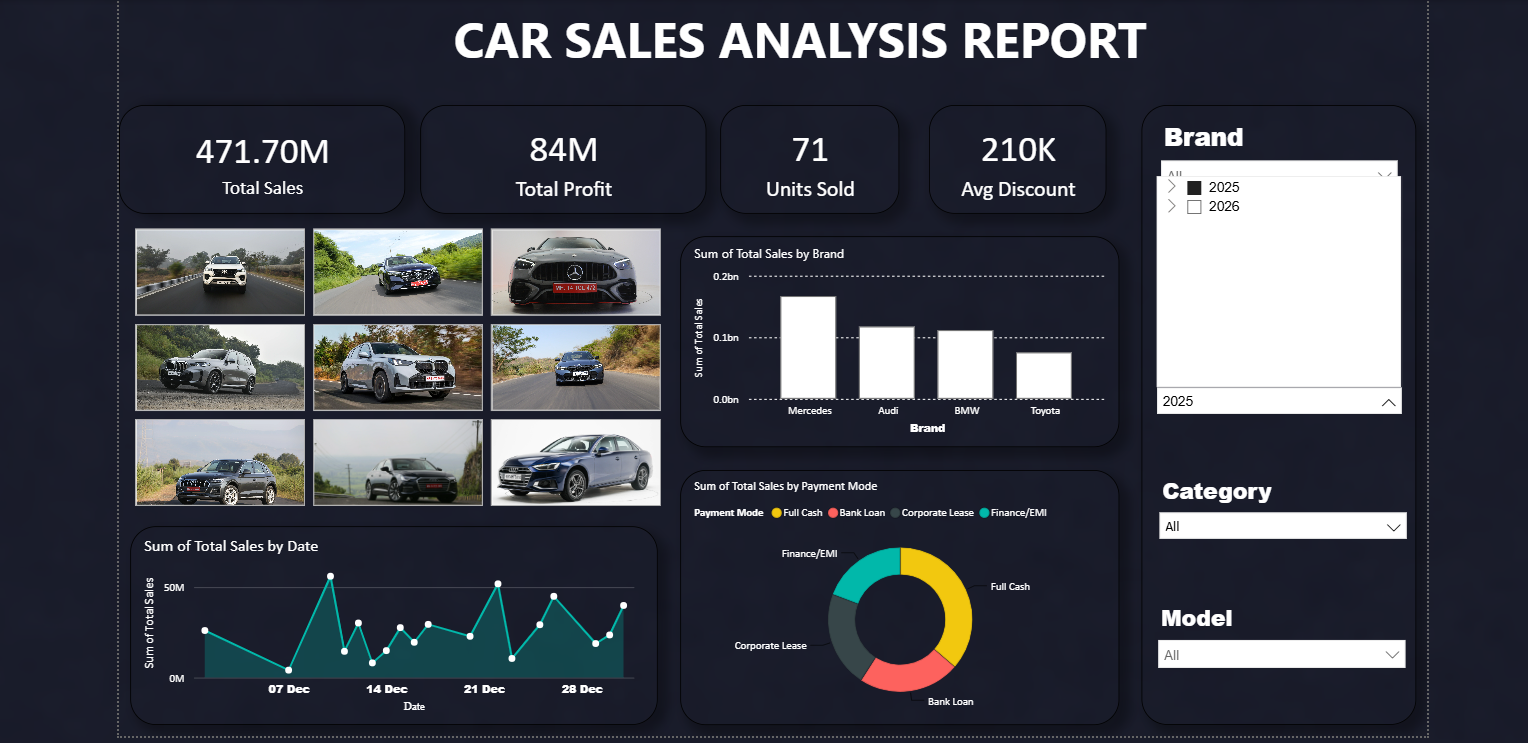

Layout of this report page (visuals, bound fields, positions):
{"tool":"powerbi","page":{"name":"Page 1","canvas":[1280,720],"ordinal":0},"visuals":[{"type":"card","fields":{"Values":["Sum(car_sales_full.Total Sales)"]},"box":[0,102.7,280,106.4],"z":0},{"type":"card","fields":{"Values":["Sum(car_sales_full.Profit)"]},"box":[294.7,102.7,280,106.4],"z":1000},{"type":"card","fields":{"Values":["Sum(car_sales_full.Units Sold)"]},"box":[588.2,102.7,174.9,106.4],"z":2000},{"type":"card","fields":{"Values":["Avg(car_sales_full.Discount)"]},"box":[792.4,102.7,173.6,106.4],"z":3000},{"type":"clusteredColumnChart","fields":{"Category":["car_sales_full.Brand"],"Y":["Sum(car_sales_full.Total Sales)"]},"box":[549.1,231.1,429.2,206.7],"z":4000},{"type":"areaChart","fields":{"Category":["car_sales_full.Date"],"Y":["Sum(car_sales_full.Total Sales)"]},"box":[11,514.8,516,194.4],"z":5000},{"type":"donutChart","fields":{"Category":["car_sales_full.Payment Mode"],"Y":["Sum(car_sales_full.Total Sales)"]},"box":[549.1,459.8,429.2,249.5],"z":6000},{"type":"slicer","fields":{"Values":["car_sales_full.Brand"]},"box":[1000.3,102.7,269,606.5],"z":7000},{"type":"slicer","fields":{"Values":["car_sales_full.City"]},"box":[1006.4,218.9,255.6,229.9],"z":8000},{"type":"slicer","fields":{"Values":["car_sales_full.Date.Variation.Date Hierarchy.Year","car_sales_full.Date.Variation.Date Hierarchy.Quarter","car_sales_full.Date.Variation.Date Hierarchy.Month","car_sales_full.Date.Variation.Date Hierarchy.Day"]},"box":[1005.2,344.8,259.2,134.5],"z":9000},{"type":"slicer","fields":{"Values":["car_sales_full.Category"]},"box":[1007.6,459.8,261.7,108.8],"z":10000},{"type":"slicer","fields":{"Values":["car_sales_full.Model"]},"box":[1006.4,584.5,261.7,95.4],"z":11000},{"type":"advancedSlicerVisual","fields":{"Values":["car_sales_full.Model Preview"]},"box":[11,218.9,524.6,282.5],"z":12000},{"type":"textbox","box":[70.9,0,1209.4,102.7],"z":13000}]}

Visuals, with their boxes on the page's 1280x720 design canvas (x1, y1, x2, y2). These are canvas units, not pixel positions in the 1528x743 screenshot, which may show the page scaled, cropped or inside an application window:
card - Sum(car_sales_full.Total Sales): bbox=[0, 103, 280, 209]
card - Sum(car_sales_full.Profit): bbox=[295, 103, 575, 209]
card - Sum(car_sales_full.Units Sold): bbox=[588, 103, 763, 209]
card - Avg(car_sales_full.Discount): bbox=[792, 103, 966, 209]
clusteredColumnChart - car_sales_full.Brand x Sum(car_sales_full.Total Sales): bbox=[549, 231, 978, 438]
areaChart - car_sales_full.Date x Sum(car_sales_full.Total Sales): bbox=[11, 515, 527, 709]
donutChart - car_sales_full.Payment Mode x Sum(car_sales_full.Total Sales): bbox=[549, 460, 978, 709]
slicer - car_sales_full.Brand: bbox=[1000, 103, 1269, 709]
slicer - car_sales_full.City: bbox=[1006, 219, 1262, 449]
slicer - car_sales_full.Date.Variation.Date Hierarchy.Year x car_sales_full.Date.Variation.Date Hierarchy.Quarter: bbox=[1005, 345, 1264, 479]
slicer - car_sales_full.Category: bbox=[1008, 460, 1269, 569]
slicer - car_sales_full.Model: bbox=[1006, 584, 1268, 680]
advancedSlicerVisual - car_sales_full.Model Preview: bbox=[11, 219, 536, 501]
textbox: bbox=[71, 0, 1280, 103]
